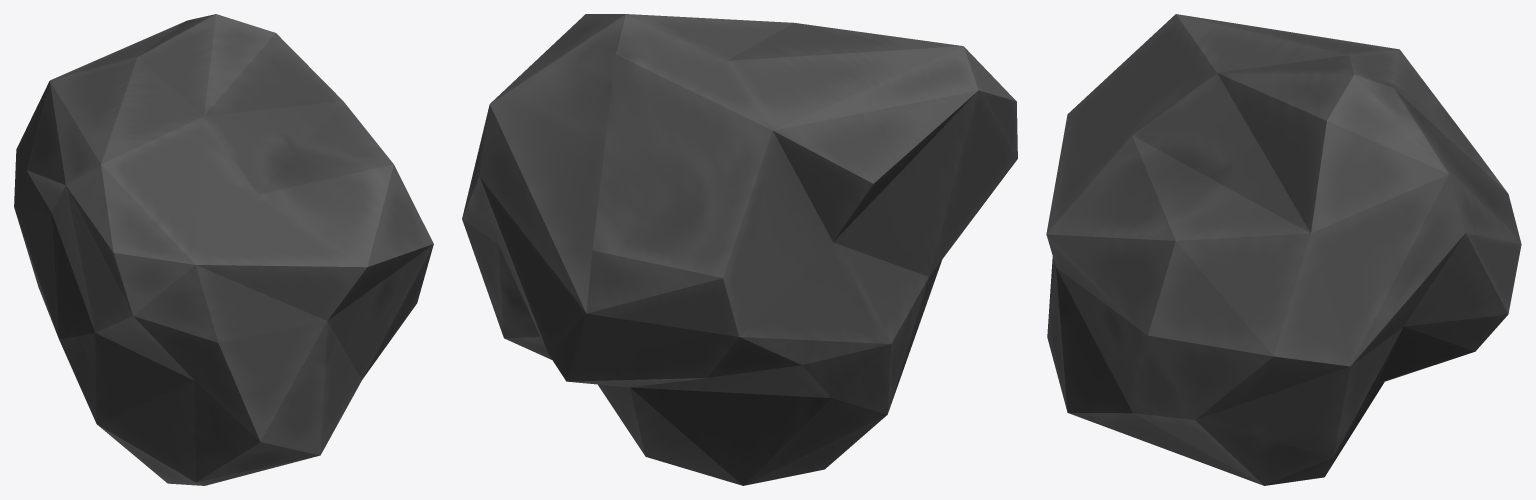
File: rock_2.obj
The picture shows the model from 3 angles, left to right: view 1: azimuth 30°, elevation 25°; view 2: azimuth 150°, elevation 25°; view 3: azimuth 270°, elevation 25°; orthographic projection. The views are drawn at different scales.
Parts seen in each view (by area): view 1: Asteroids_Mesh.002; view 2: Asteroids_Mesh.002; view 3: Asteroids_Mesh.002.
Part boxes in pixels (x1,y1,x2,y2): Asteroids_Mesh.002: [14, 14, 433, 485]; Asteroids_Mesh.002: [462, 14, 1017, 485]; Asteroids_Mesh.002: [1046, 14, 1521, 485].
Size of the model in its own units: 0.9123 by 0.9481 by 0.9525.
